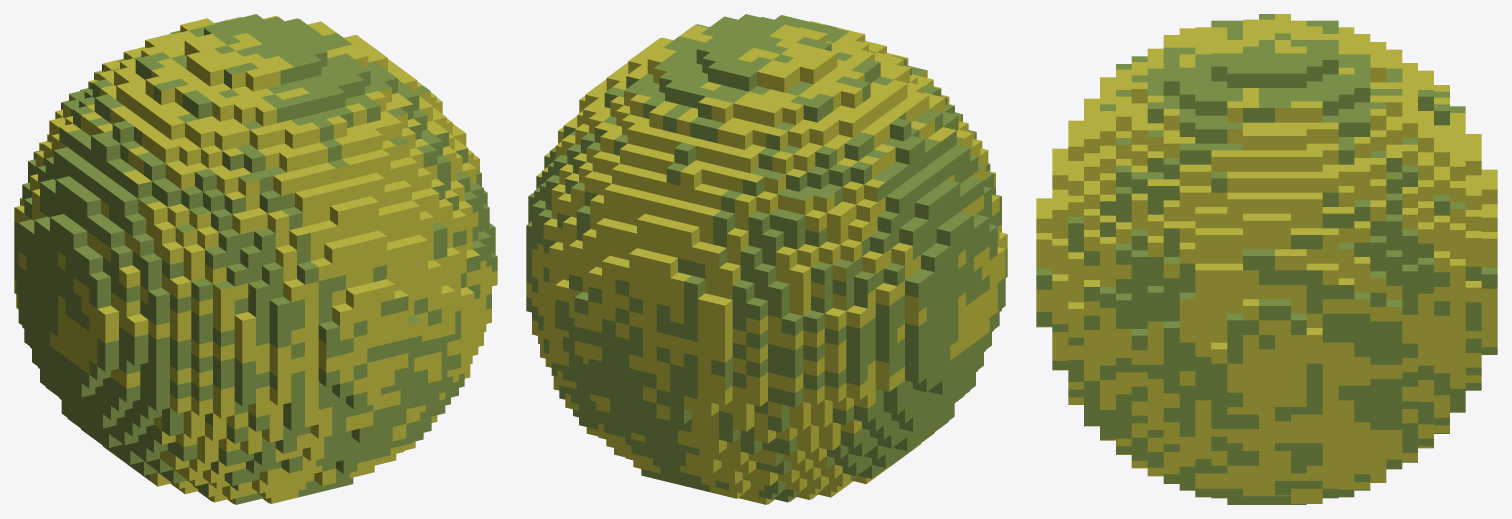
The model's file is planet8.fbx.
The picture shows the model from 3 angles, left to right: view 1: azimuth 30°, elevation 25°; view 2: azimuth 150°, elevation 25°; view 3: azimuth 270°, elevation 25°; orthographic projection.
Visible parts, largest first — view 1: MASH1_ReproMesh; view 2: MASH1_ReproMesh; view 3: MASH1_ReproMesh.
Boxes of the visible parts, x1,y1,x2,y2 form: MASH1_ReproMesh: [14, 14, 497, 504]; MASH1_ReproMesh: [526, 14, 1007, 504]; MASH1_ReproMesh: [1036, 14, 1497, 504].
Size of the model in its own units: 29 by 29 by 29.
